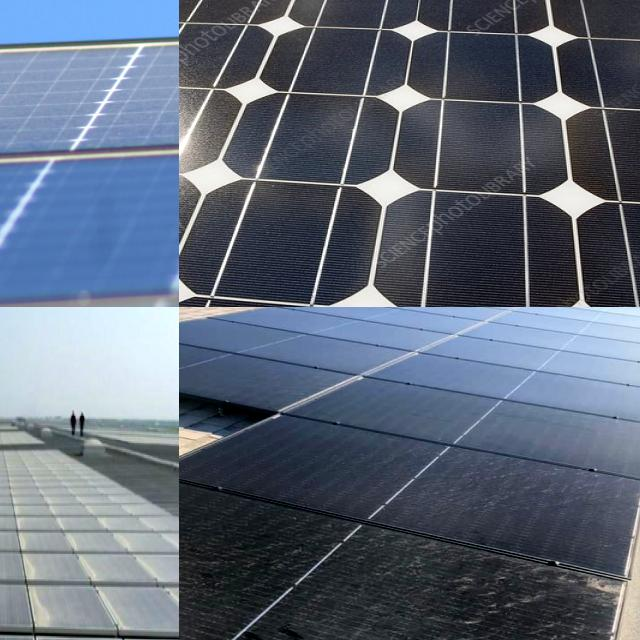crack: (179, 0, 640, 307)
dust: (375, 543, 628, 640), (414, 457, 607, 525), (179, 495, 302, 578), (0, 49, 95, 148), (19, 474, 108, 572), (215, 588, 361, 640), (115, 42, 179, 133), (28, 587, 112, 640), (0, 474, 52, 552), (0, 467, 50, 547), (0, 474, 47, 552), (0, 567, 47, 640), (128, 576, 179, 640), (0, 566, 42, 640), (0, 579, 44, 640), (0, 583, 40, 640)
